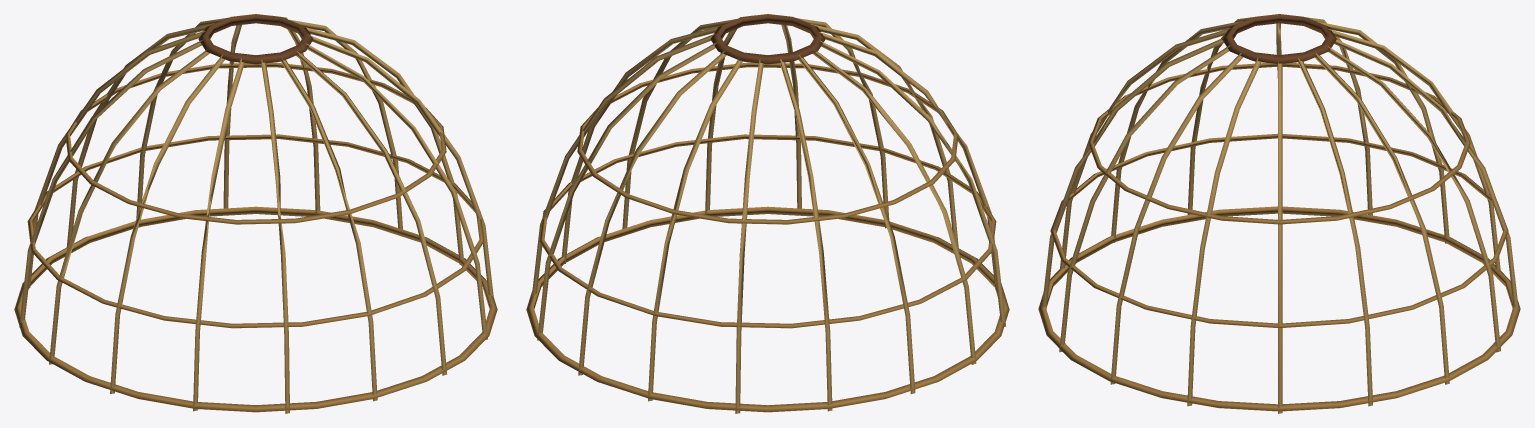
3 renders of one model, left to right at view 1: azimuth 30°, elevation 25°; view 2: azimuth 150°, elevation 25°; view 3: azimuth 270°, elevation 25°, orthographic.
Parts seen in each view (by area): view 1: bu_ga; view 2: bu_ga; view 3: bu_ga.
Boxes of the visible parts, box(x1,y1,x2,y2) form: bu_ga: box(14, 14, 497, 413); bu_ga: box(526, 14, 1009, 413); bu_ga: box(1038, 14, 1520, 413).
Size of the model in its own units: 0.734 by 0.4683 by 0.734.
